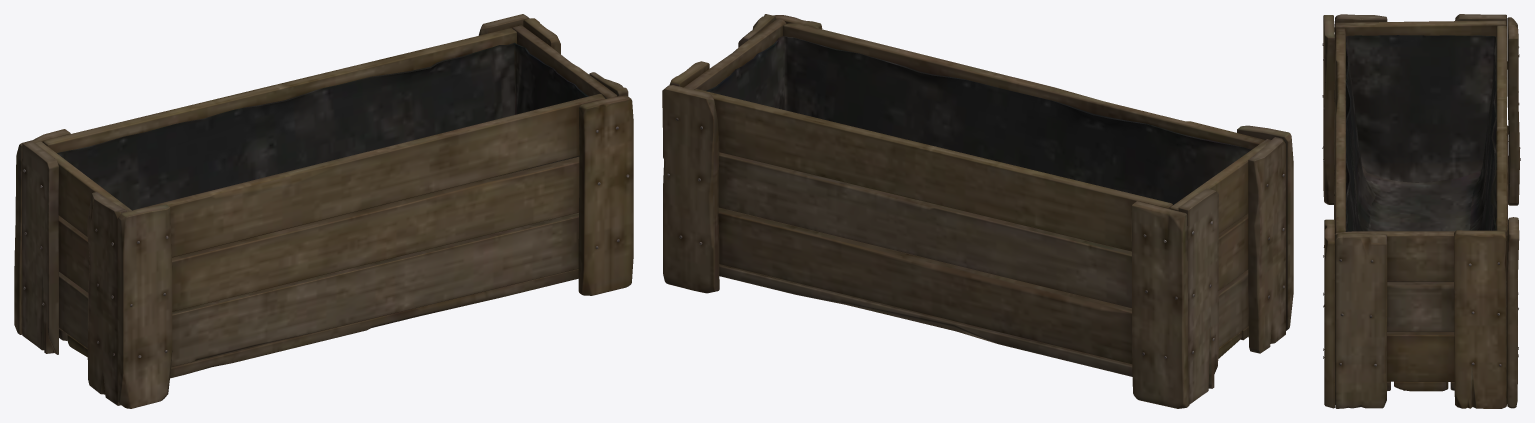
The model's file is planter_box_02.glb.
3 renders of one model, left to right at view 1: azimuth 30°, elevation 25°; view 2: azimuth 150°, elevation 25°; view 3: azimuth 270°, elevation 25°, orthographic. The views are drawn at different scales.
Parts seen in each view (by area): view 1: planter_box_02; view 2: planter_box_02; view 3: planter_box_02.
Boxes of the visible parts, <box> form: planter_box_02: <box>14,14,633,408</box>; planter_box_02: <box>662,14,1293,408</box>; planter_box_02: <box>1322,14,1520,408</box>.
Bounding box in the file's own units: 1.25 × 0.4534 × 0.4673.
1 material, 1 textured.
